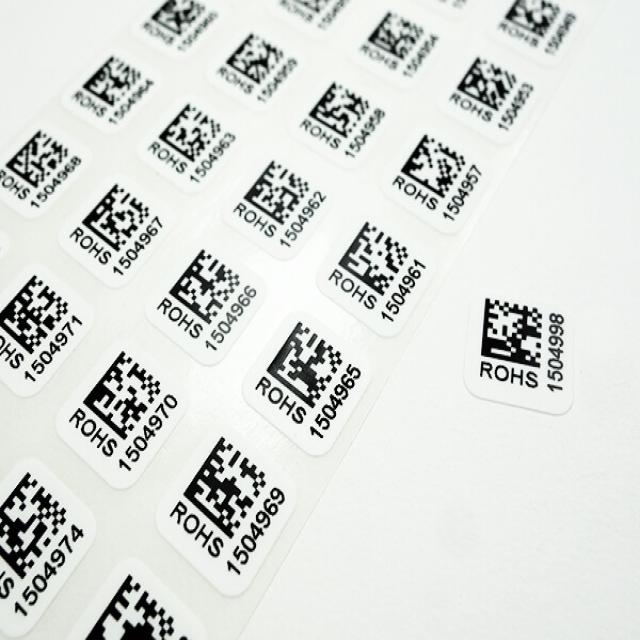datamatrix: (178, 429, 270, 544), (79, 343, 170, 442), (1, 466, 70, 586), (262, 317, 346, 411), (328, 214, 412, 308), (392, 122, 474, 216), (164, 243, 246, 327), (477, 291, 547, 377), (79, 178, 157, 253), (150, 94, 228, 169), (72, 43, 150, 118), (1, 121, 78, 196), (241, 156, 314, 229), (452, 47, 520, 119), (364, 7, 423, 64), (309, 80, 369, 136), (138, 2, 213, 36)
